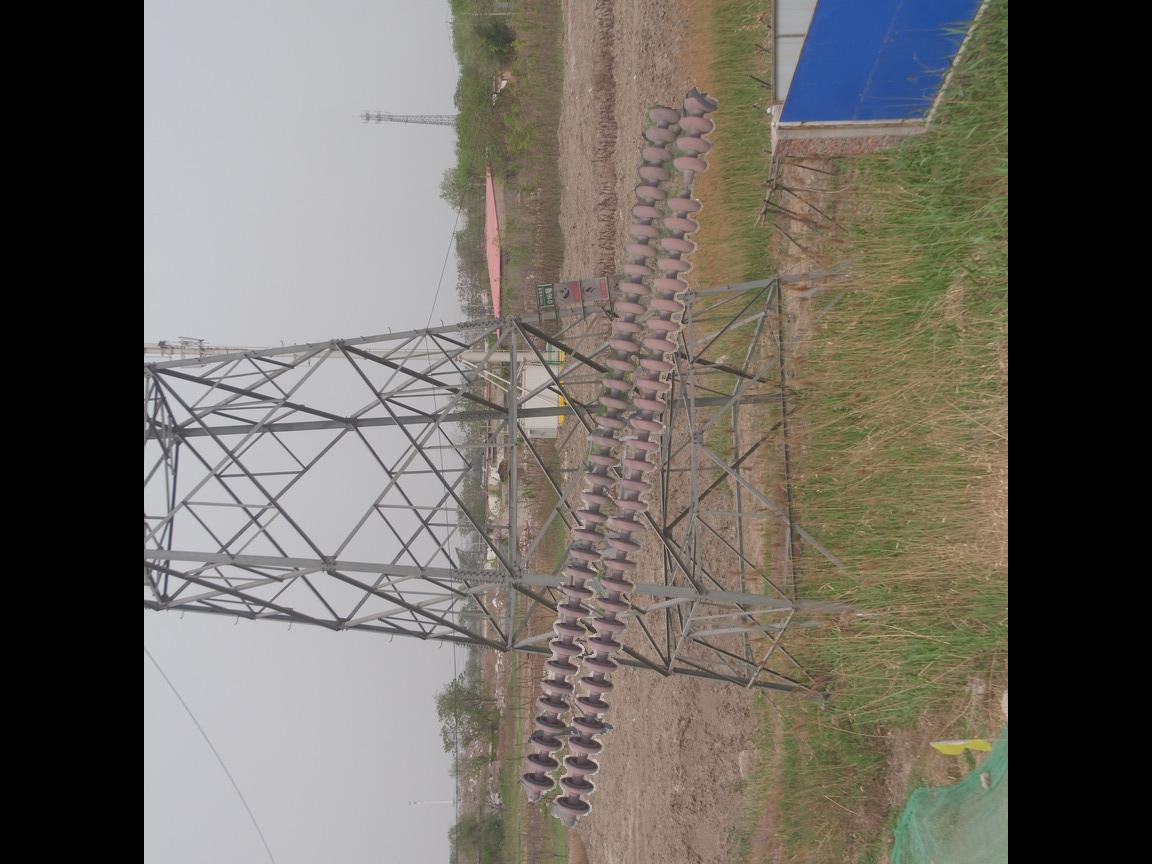insulator: (516, 83, 722, 830)
insulator_stringdrop: (664, 154, 711, 216)
